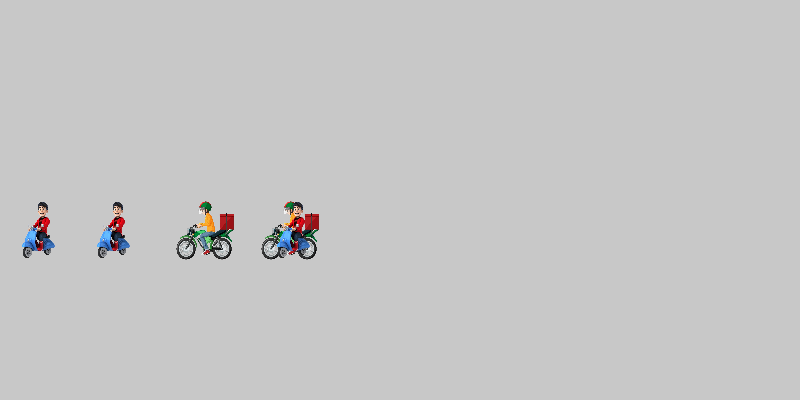helmet: (175, 200, 235, 260), (260, 200, 320, 260)
no_helmet: (10, 200, 70, 260), (85, 200, 145, 260), (265, 200, 325, 260)
